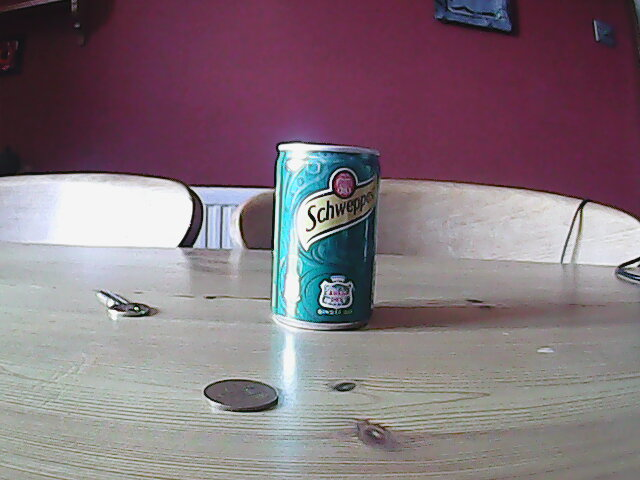Can: (267, 138, 384, 331)
Coin: (201, 377, 280, 415)
Key: (91, 286, 154, 322)
